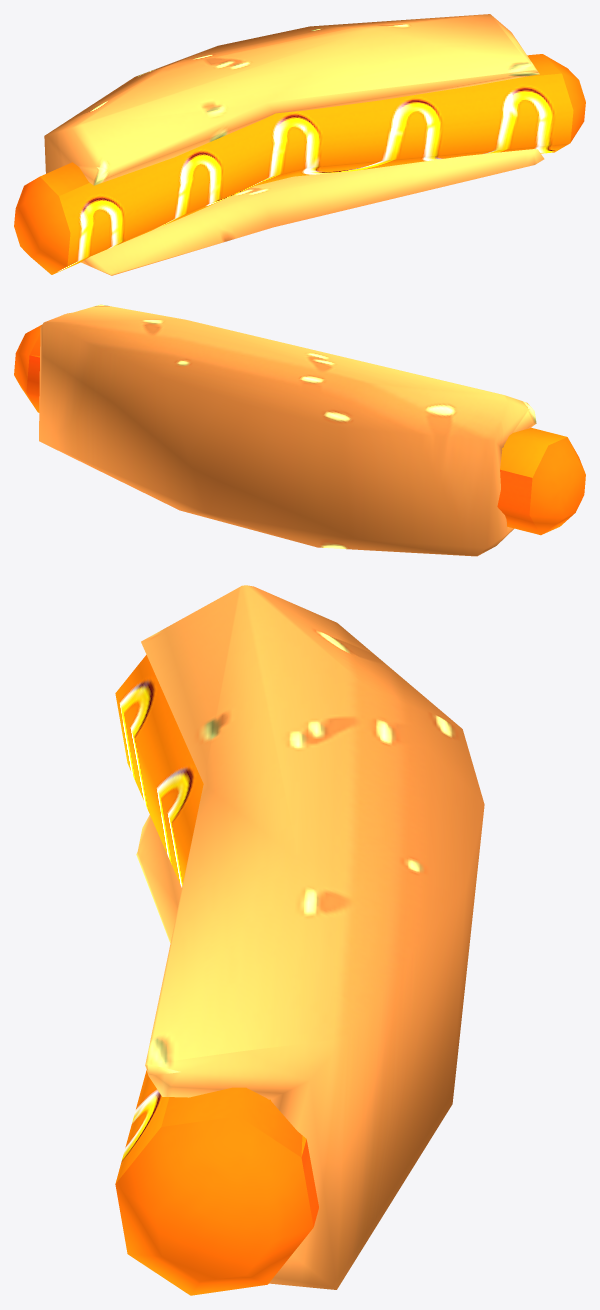
The model's file is orange_hotdog.glb.
3 views of the same model, one above another, from view 1: azimuth 30°, elevation 25°; view 2: azimuth 150°, elevation 25°; view 3: azimuth 270°, elevation 25° (orthographic). The views are drawn at different scales.
Visible parts, largest first — view 1: Orange_HotDog; view 2: Orange_HotDog; view 3: Orange_HotDog.
Boxes of the visible parts, x1,y1,x2,y2 form: Orange_HotDog: (14,14,585,275); Orange_HotDog: (14,304,585,556); Orange_HotDog: (115,585,484,1295).
Size of the model in its own units: 0.8031 by 0.242 by 0.2362.
1 material, 1 textured.
